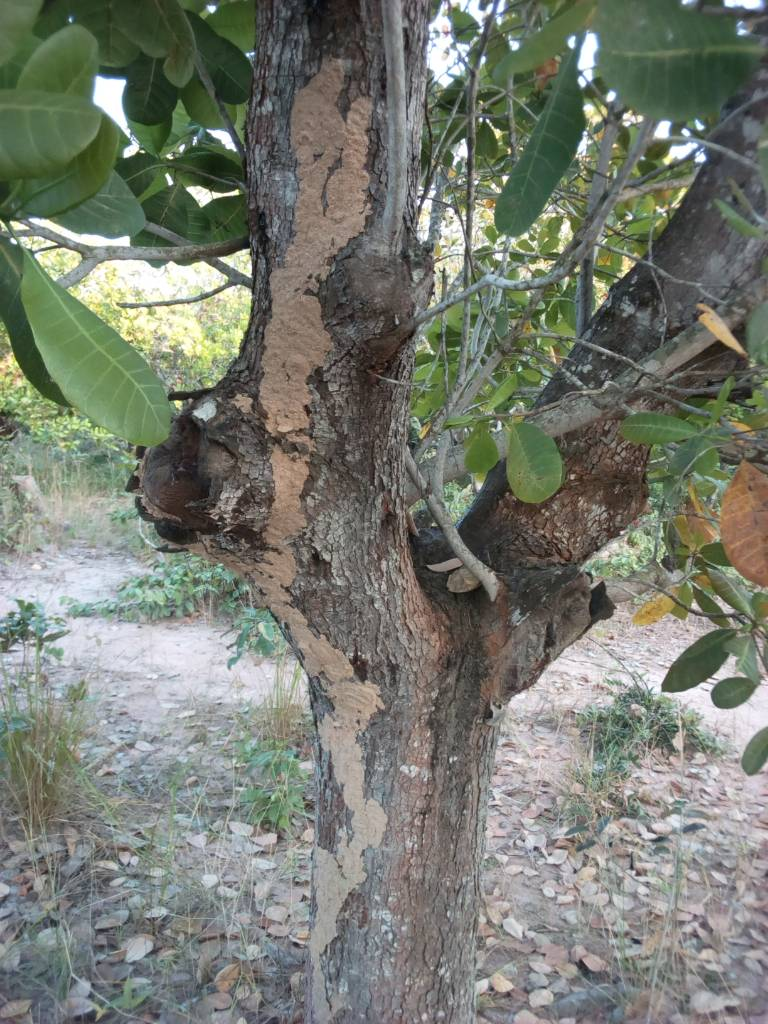Termites: (252, 61, 369, 499), (311, 680, 385, 1008)
